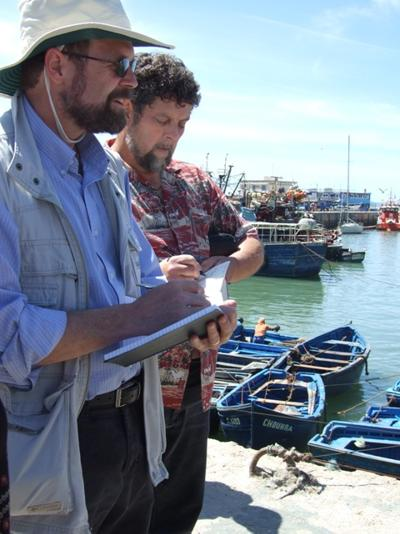person: (2, 3, 235, 532)
